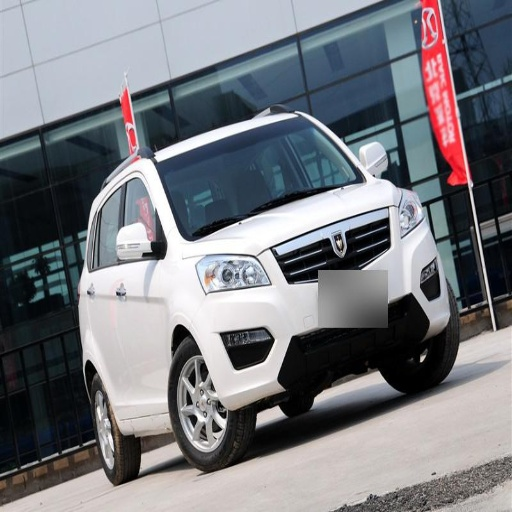front_bumper: (197, 205, 449, 400)
front_right_door: (99, 164, 160, 398)
front_right_light: (196, 254, 269, 291)
